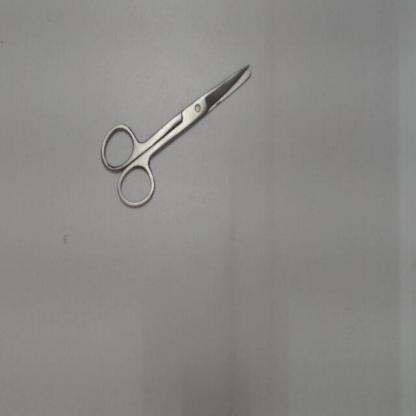Dressing Scissors: (88, 56, 264, 218)
